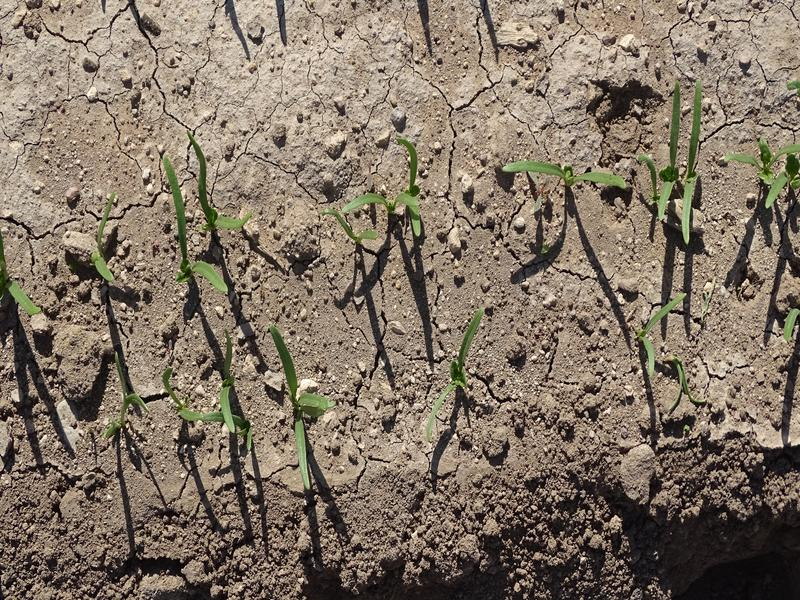Espinaca: (329, 131, 429, 250), (166, 135, 236, 296), (274, 330, 331, 484), (424, 304, 490, 434), (655, 84, 706, 240), (186, 333, 247, 457), (93, 354, 154, 443), (632, 291, 695, 368), (736, 135, 800, 207), (503, 158, 627, 195), (79, 190, 124, 285), (1, 265, 46, 315)
